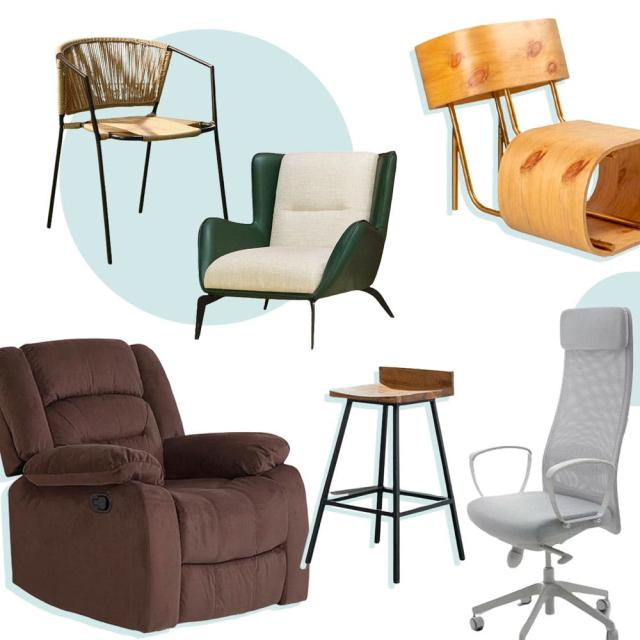chair: (1, 324, 315, 640), (449, 299, 640, 640), (138, 111, 410, 347), (396, 5, 640, 266), (20, 14, 246, 276), (279, 344, 466, 616)
